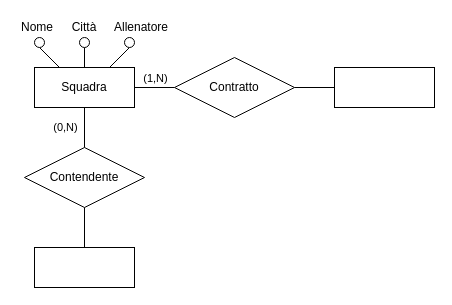
This 452x305 diagram has some shape labels left out. The centre of each missing label's shape, as x and y in pixels:
"Giocatore" goes at [384,87].
"Partita" goes at [84,267].
